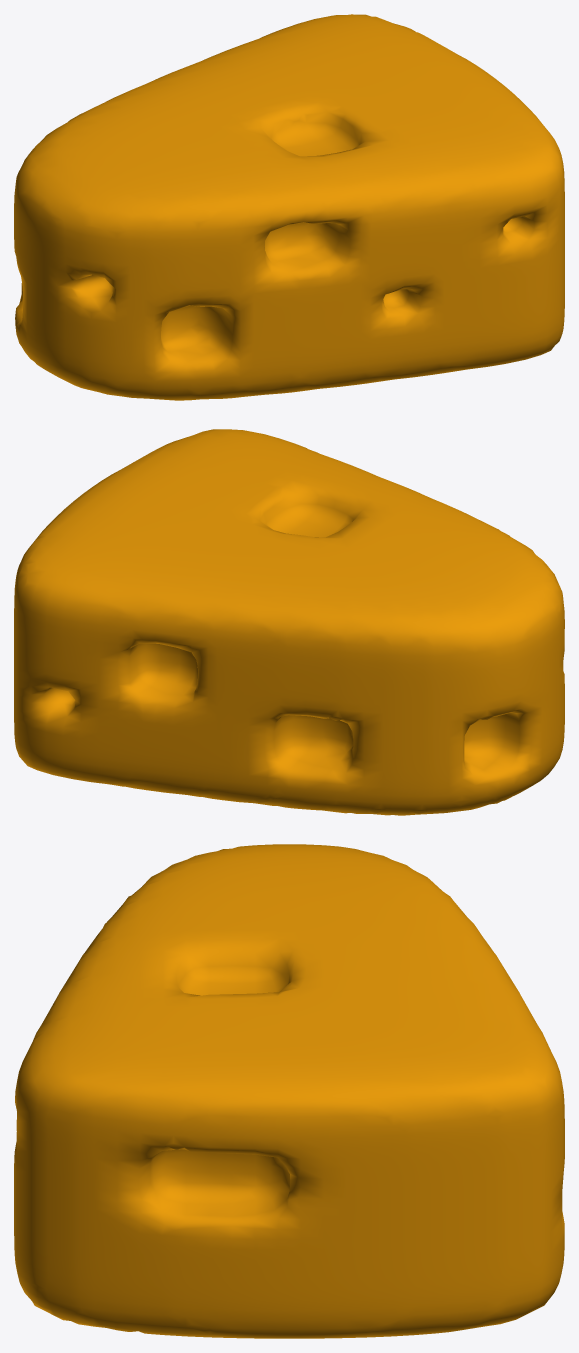
Rendered from cheese.glb.
3 renders of one model, top to bottom at view 1: azimuth 30°, elevation 25°; view 2: azimuth 150°, elevation 25°; view 3: azimuth 270°, elevation 25°, orthographic. The views are drawn at different scales.
Visible parts, largest first — view 1: Cube.016; view 2: Cube.016; view 3: Cube.016.
Boxes of the visible parts, left/top/right/bottom form: Cube.016: left=14, top=14, right=564, bottom=400; Cube.016: left=14, top=429, right=564, bottom=815; Cube.016: left=14, top=844, right=564, bottom=1338.
Size of the model in its own units: 2.05 by 0.9035 by 1.71.
